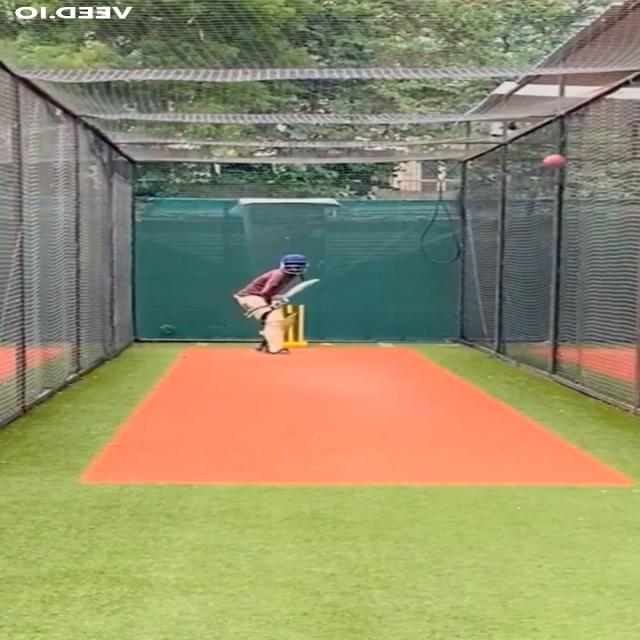ball: (539, 152, 570, 170)
stump: (278, 304, 308, 347)
